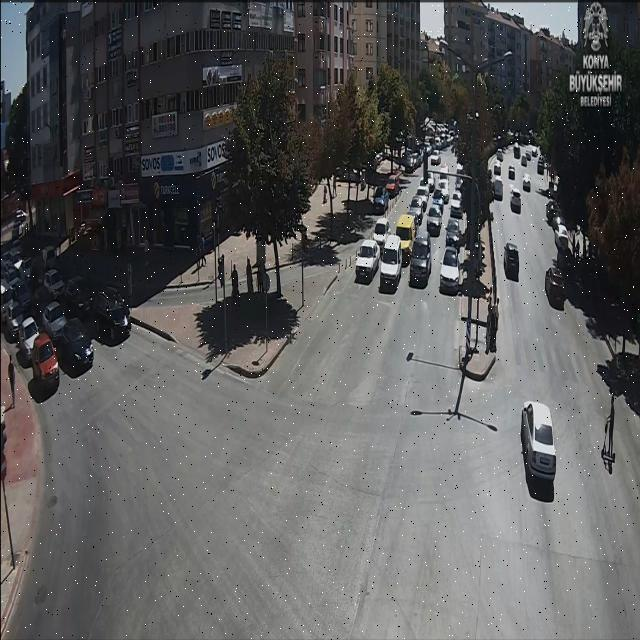Car: (522, 399, 556, 482), (57, 322, 95, 374), (96, 307, 130, 345), (32, 334, 59, 381), (92, 288, 129, 318), (354, 240, 380, 282), (17, 316, 40, 358), (67, 276, 93, 312), (395, 214, 412, 265), (547, 265, 567, 304), (42, 301, 66, 333), (439, 266, 461, 296), (503, 243, 520, 277), (44, 270, 64, 296), (441, 246, 461, 270), (426, 206, 442, 236), (445, 219, 461, 248), (372, 217, 390, 242), (554, 226, 570, 253), (449, 190, 464, 218), (372, 189, 390, 212), (409, 196, 422, 225), (385, 174, 400, 194), (546, 200, 560, 220), (511, 187, 522, 210), (434, 190, 444, 207), (522, 174, 532, 190), (431, 152, 441, 166), (508, 166, 516, 179), (494, 161, 501, 174)
Van: (409, 230, 432, 288), (381, 233, 402, 290)
